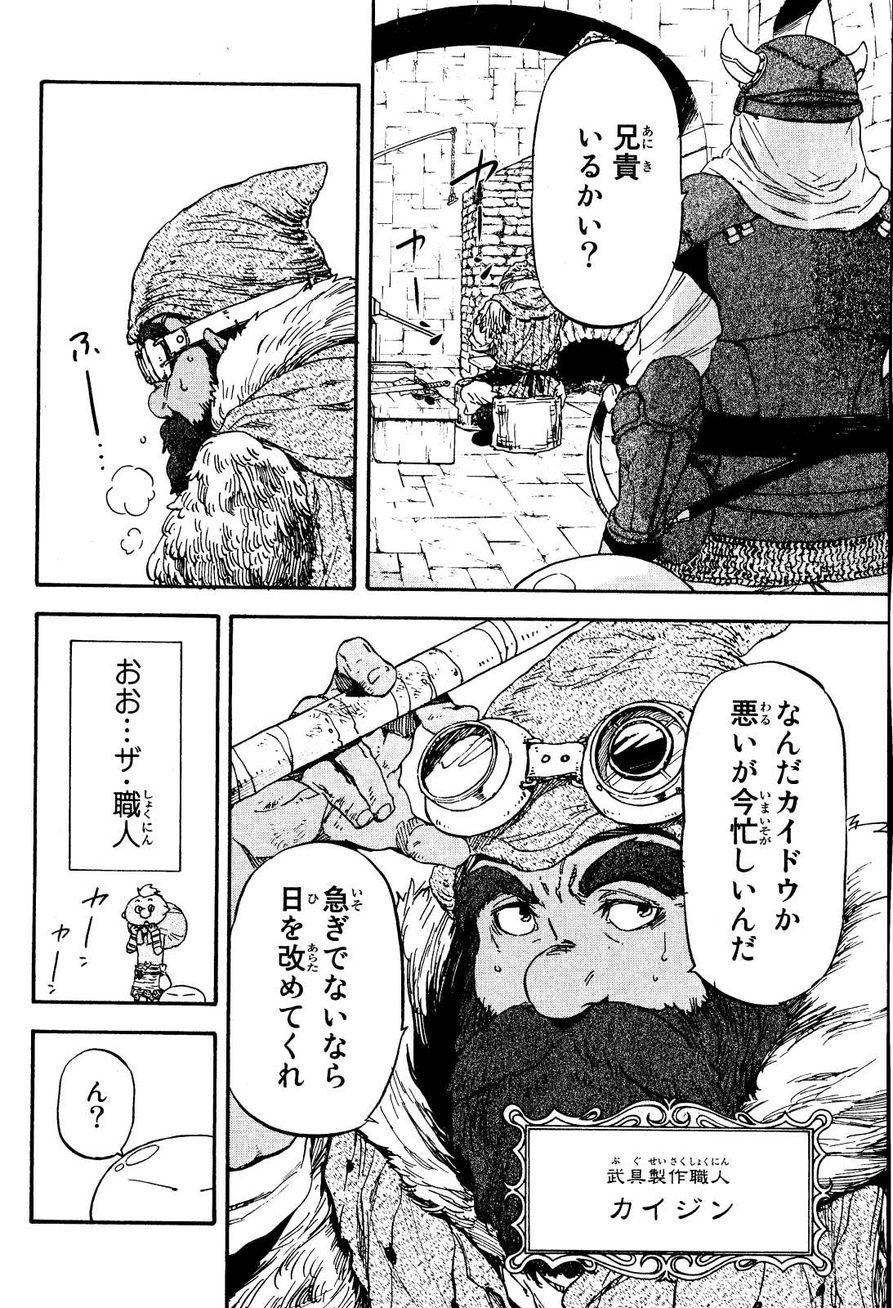bubbles: (672, 652, 854, 1015), (231, 838, 414, 1143), (526, 35, 684, 334), (65, 634, 186, 879), (54, 1041, 138, 1168)
